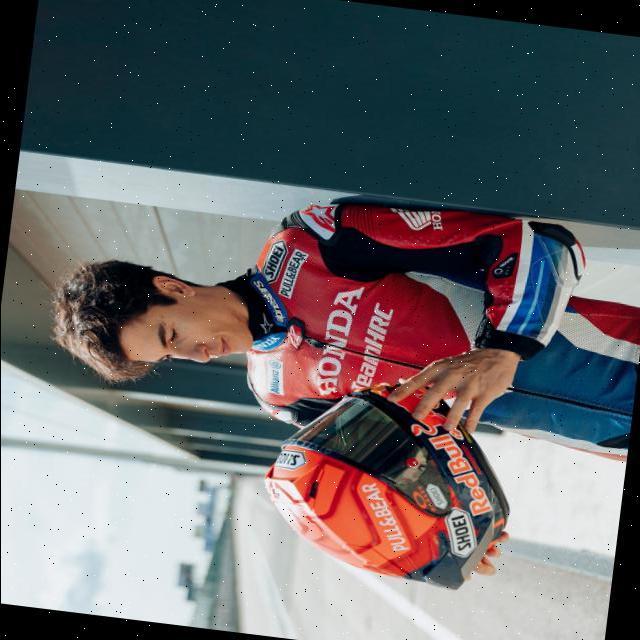Helm: (247, 360, 528, 602)
